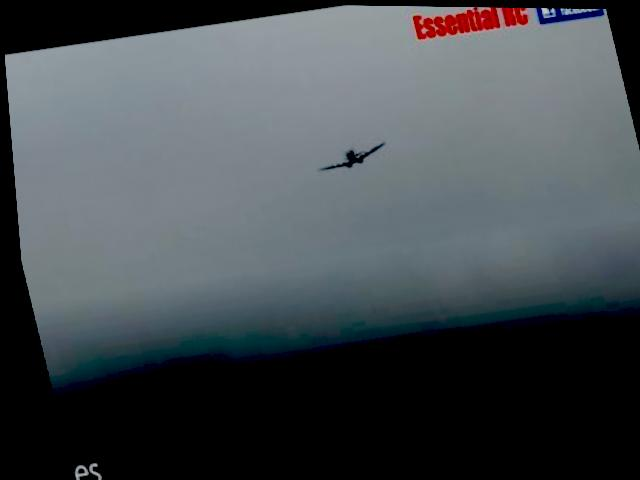uav: (307, 134, 391, 175)
